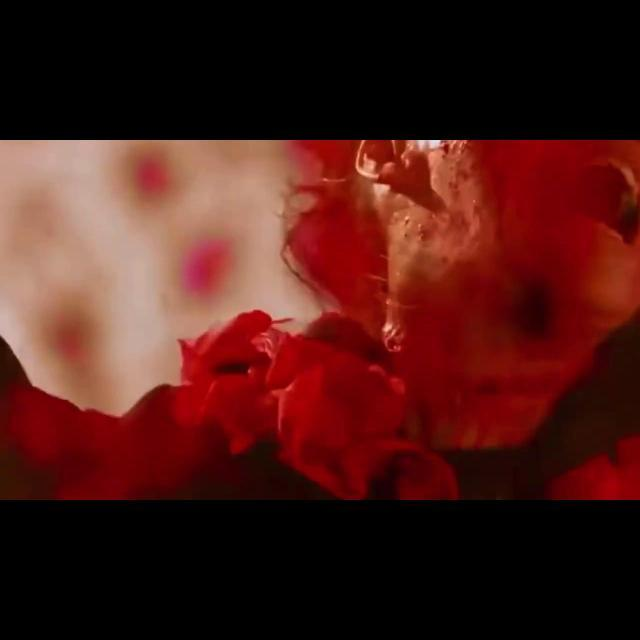blood: (0, 140, 640, 500), (178, 232, 237, 300), (42, 300, 96, 367), (126, 147, 178, 206)
